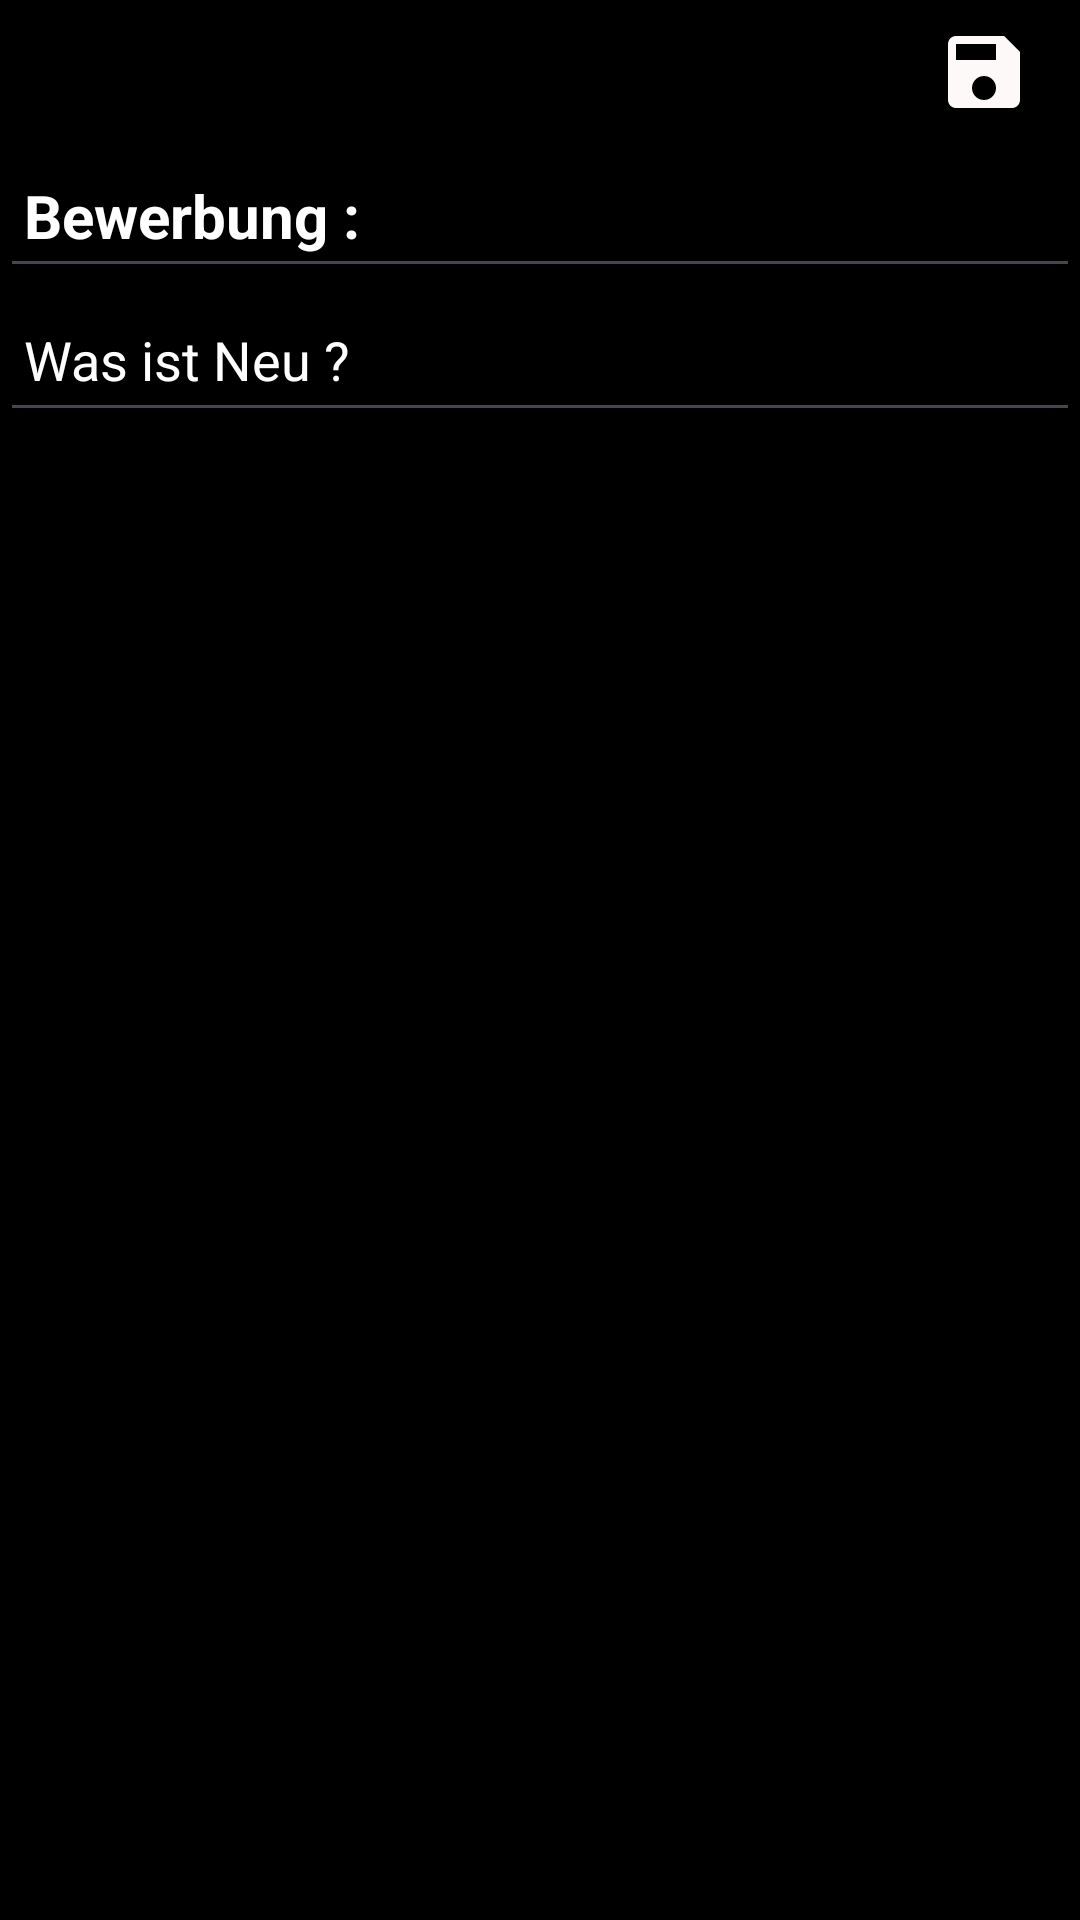

Named icons in this screenshot (1080px x 1920px) and their centers, point (x, y):
save: point (984, 72)
